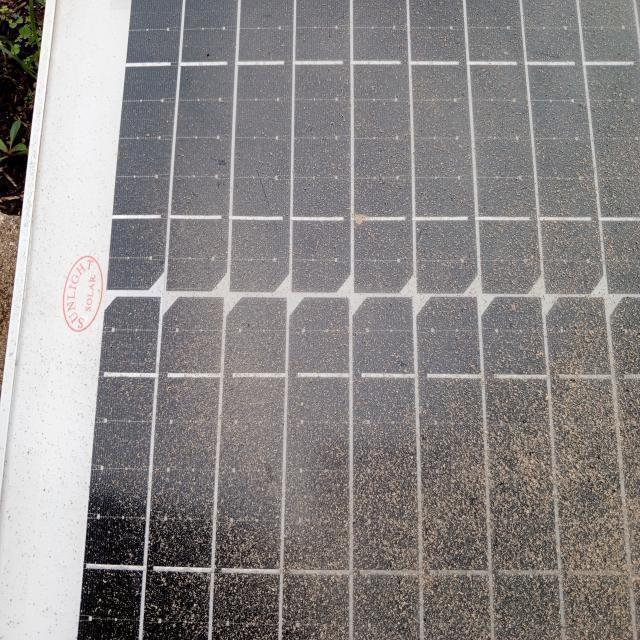Anomaly Solar Panel: (83, 0, 638, 639)
Surface Contaminant: (76, 0, 637, 638)
